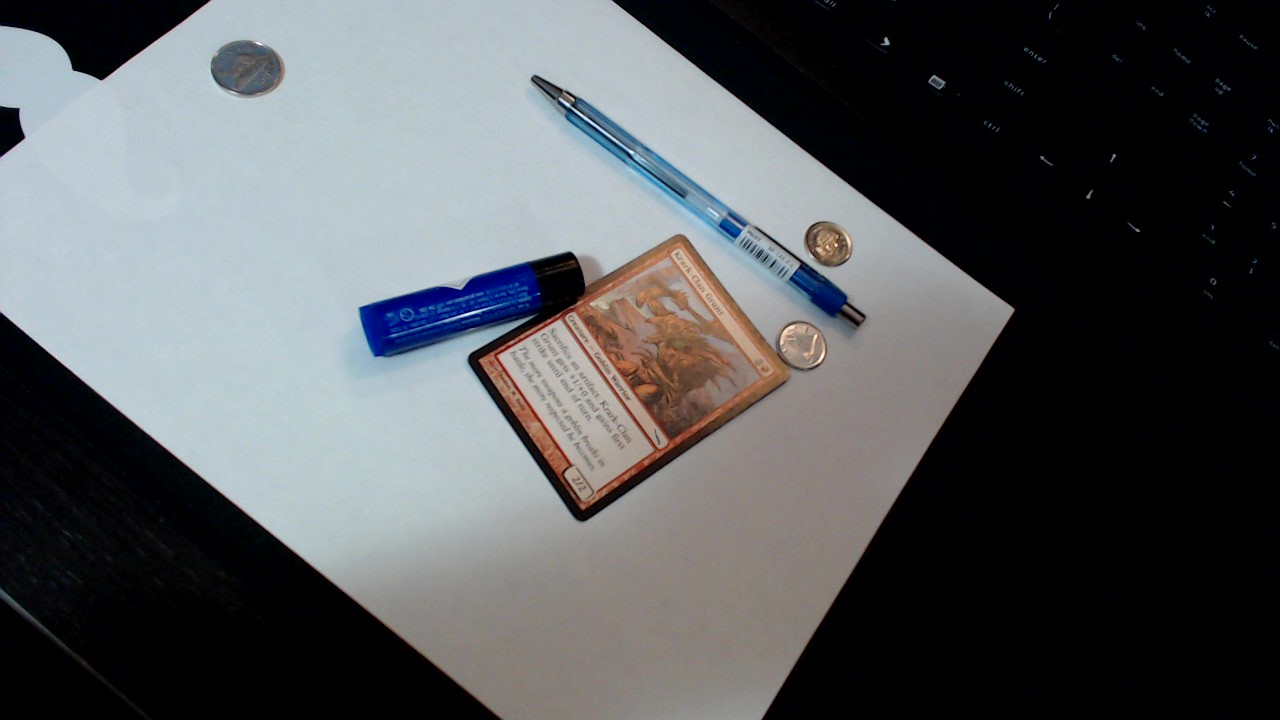MTG Card: (455, 230, 801, 527)
